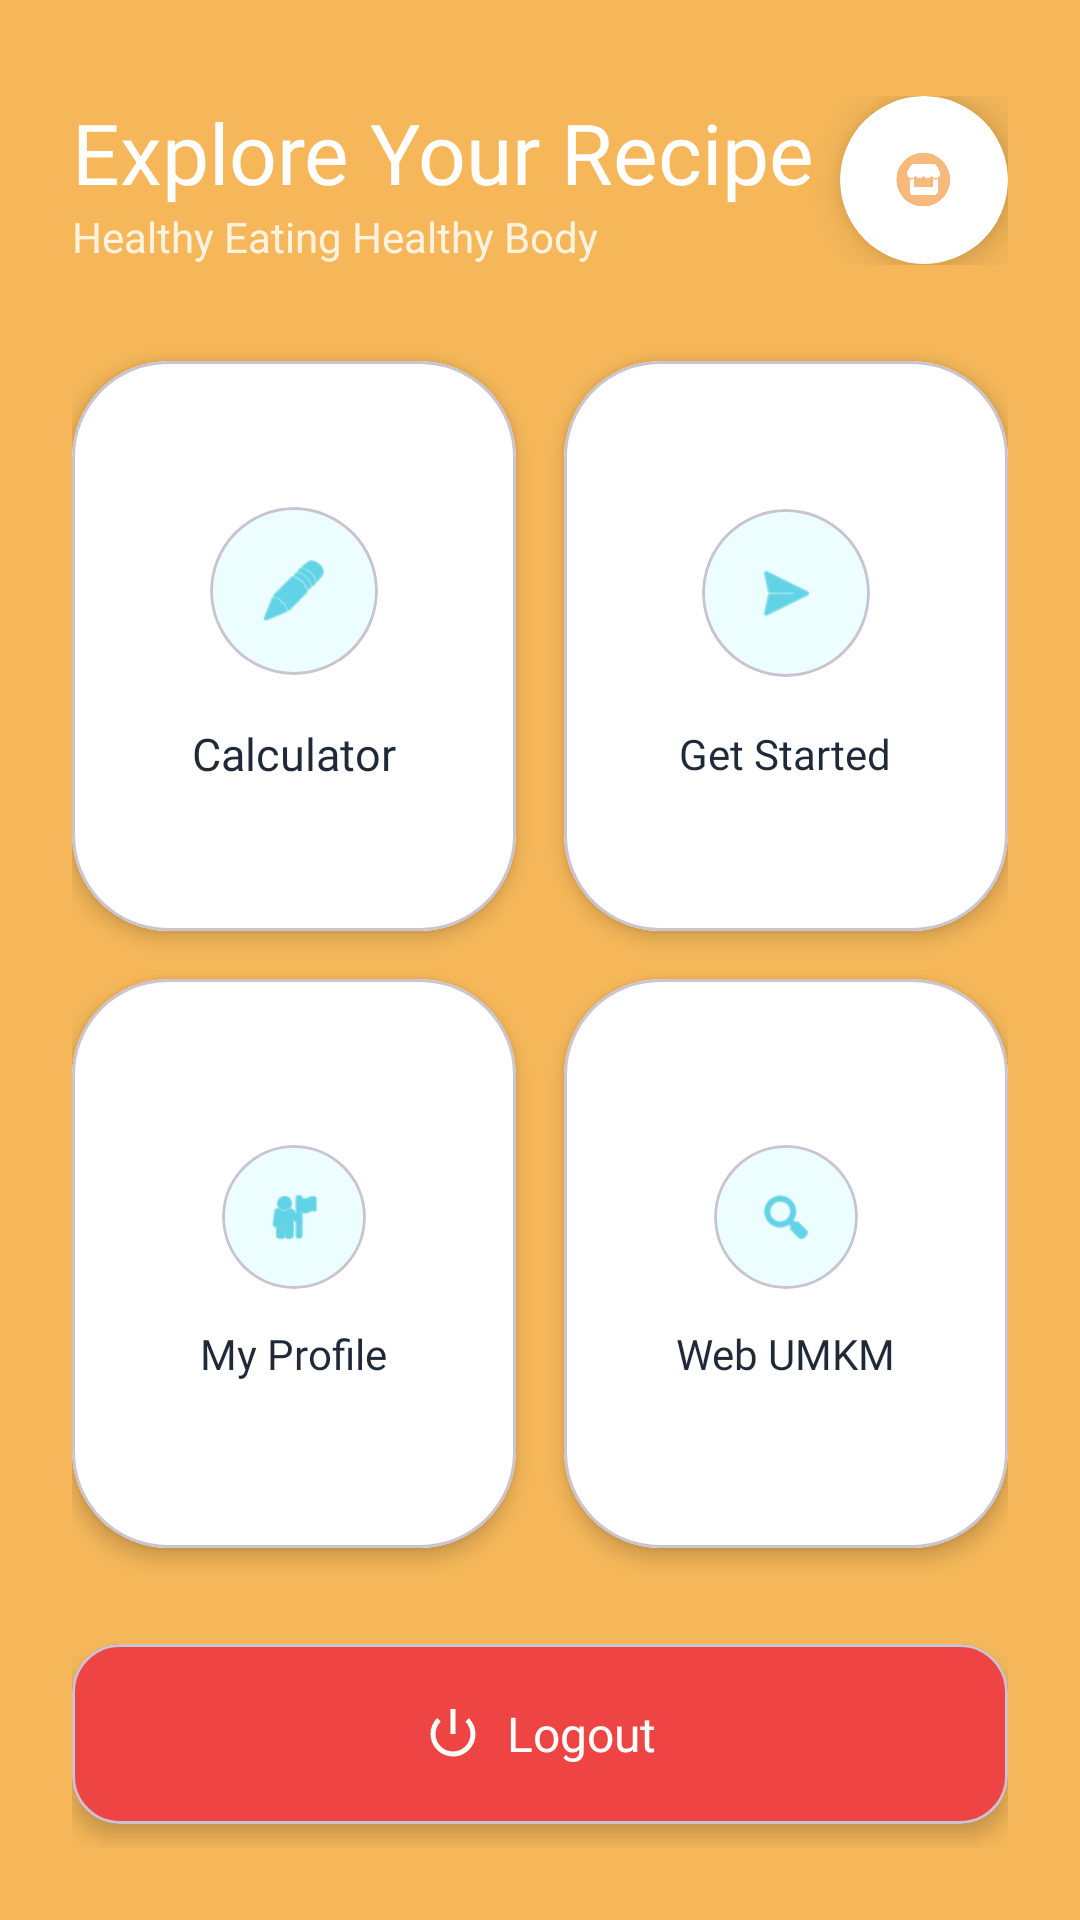

Icon bounding boxes for this 1080w x 1920h phone screenshot, format rect(x1, y1, x2, y2):
edit: rect(263, 560, 324, 621)
lock power off: rect(430, 1709, 476, 1757)
myplaces: rect(272, 1195, 317, 1239)
search: rect(764, 1195, 808, 1240)
send: rect(764, 571, 810, 616)
umkm: rect(840, 96, 1008, 264)
